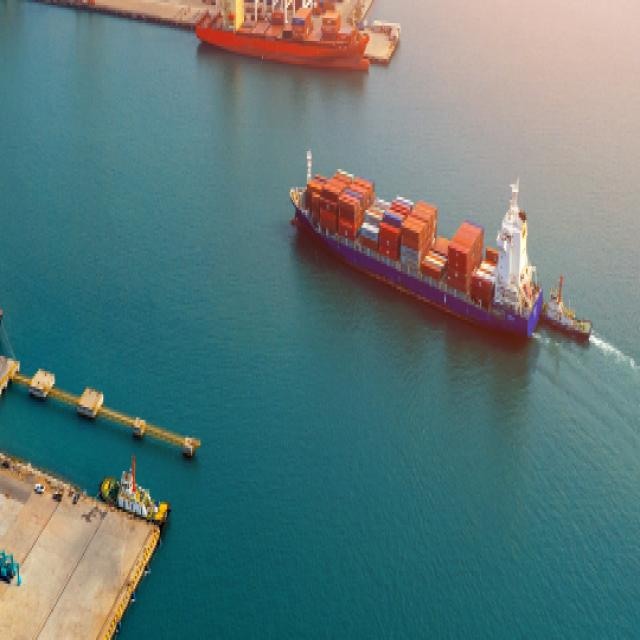cargoship: (288, 120, 541, 349), (544, 276, 596, 348)
